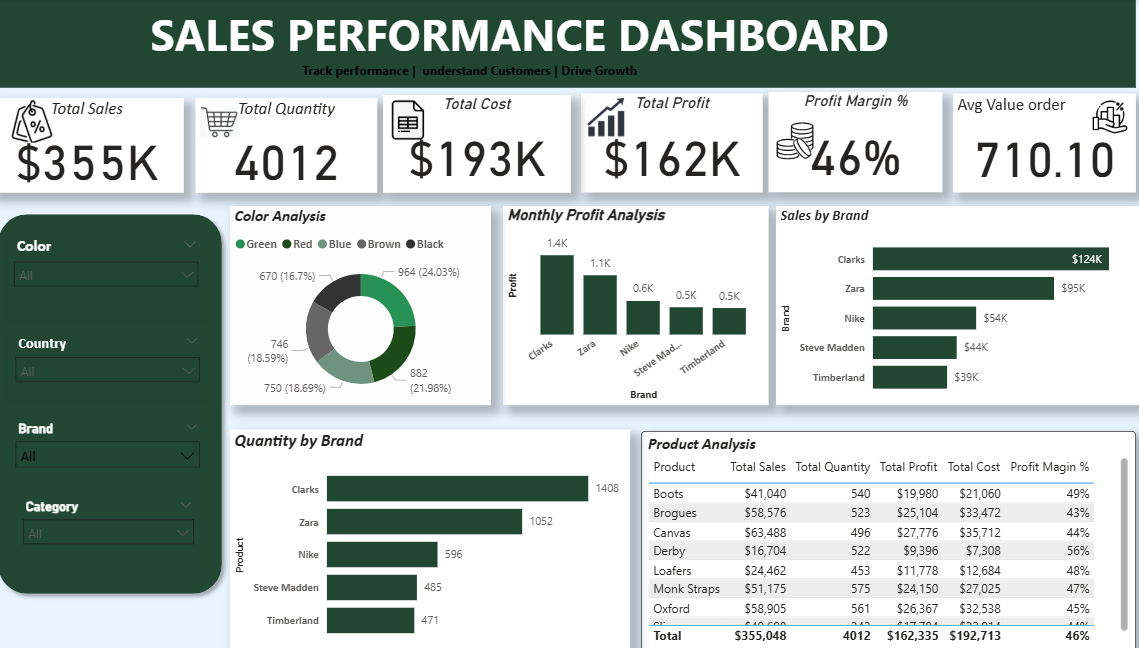

This screenshot's page, from the dashboard's own definition file:
{"tool":"powerbi","page":{"name":"Product Analysis","canvas":[1280,720],"ordinal":1},"visuals":[{"type":"card","title":"Total Sales","fields":{"Values":["Measure Table.Total Revenue"]},"box":[0,109.3,213.7,104.4],"z":0},{"type":"card","title":"           Total Quantity","fields":{"Values":["Measure Table.Total Quantity"]},"box":[226.9,109.3,200.4,104.4],"z":1000},{"type":"card","title":"Total Profit ","fields":{"Values":["Measure Table.Total Profit"]},"box":[652.7,104.4,200.4,109.3],"z":2000},{"type":"card","title":"Total Cost","fields":{"Values":["Measure Table.Total Cost"]},"box":[434,106,207.1,107.7],"z":3000},{"type":"card","title":"Profit Margin %","fields":{"Values":["Measure Table.Profit Magin %"]},"box":[859.7,102.7,192.2,111],"z":4000},{"type":"card","title":"Avg Value order","fields":{"Values":["Measure Table.Avg order value"]},"box":[1063.5,104.4,202.1,109.3],"z":5000},{"type":"tableEx","title":"Product Analysis","fields":{"Values":["Shoes sales.Product","Measure Table.Total Sales","Measure Table.Total Quantity","Measure Table.Total Profit","Measure Table.Total Cost","Measure Table.Profit Magin %"]},"box":[718.9,477.1,546.6,243.5],"z":6000},{"type":"barChart","title":"Quantity by Brand","fields":{"Category":["Shoes sales.Brand"],"Y":["Measure Table.Total Quantity"]},"box":[265,475.4,442.3,245.2],"z":7000},{"type":"columnChart","title":"Monthly Profit Analysis","fields":{"Category":["Shoes sales.Brand"],"Y":["Sum(Shoes sales.Quantity)"]},"box":[566.5,228.6,293.2,220.3],"z":8000},{"type":"barChart","title":"Sales by Brand","fields":{"Category":["Shoes sales.Brand"],"Y":["Measure Table.Total Revenue"]},"box":[868,228.6,412.5,220.3],"z":9000},{"type":"textbox","box":[0,0,1265.6,97.7],"z":10000},{"type":"shape","box":[0,228.6,265,437.3],"z":11000},{"type":"slicer","fields":{"Values":["Shoes sales.Color"]},"box":[16.6,256.8,223.6,102.7],"z":12000},{"type":"slicer","fields":{"Values":["Shoes sales.Country"]},"box":[18.2,364.4,223.6,84.5],"z":13000},{"type":"slicer","fields":{"Values":["Shoes sales.Brand"]},"box":[18.2,460.5,223.6,76.2],"z":14000},{"type":"slicer","fields":{"Values":["Shoes sales.Category"]},"box":[26.5,546.6,208.7,102.7],"z":15000},{"type":"image","box":[863,130.9,51.4,51.4],"z":16000},{"type":"image","box":[652.7,102.7,54.7,54.7],"z":17000},{"type":"image","box":[226.9,109.3,51.4,53],"z":18000},{"type":"image","box":[434,106,56.3,54.7],"z":19000},{"type":"image","box":[1207.6,102.7,58,54.7],"z":20000},{"type":"image","box":[18.2,106,56.3,58],"z":21000},{"type":"donutChart","title":"Color Analysis","fields":{"Category":["Shoes sales.Color"],"Y":["Measure Table.Total Quantity"]},"box":[265,228.6,288.2,220.3],"z":22000}]}

Visuals, with their boxes in screenshot pixels (x1, y1, x2, y2), scaled from the page's 1280x720 canvas onto the 1139x648 screenshot:
"Total Sales" card: box(0, 98, 190, 192)
"           Total Quantity" card: box(202, 98, 380, 192)
"Total Profit " card: box(581, 94, 759, 192)
"Total Cost" card: box(386, 95, 570, 192)
"Profit Margin %" card: box(765, 92, 936, 192)
"Avg Value order" card: box(946, 94, 1126, 192)
"Product Analysis" tableEx: box(640, 429, 1126, 647)
"Quantity by Brand" barChart: box(236, 428, 629, 647)
"Monthly Profit Analysis" columnChart: box(504, 206, 765, 404)
"Sales by Brand" barChart: box(772, 206, 1138, 404)
textbox: box(0, 0, 1126, 88)
shape: box(0, 206, 236, 599)
slicer - Shoes sales.Color: box(15, 231, 214, 324)
slicer - Shoes sales.Country: box(16, 328, 215, 404)
slicer - Shoes sales.Brand: box(16, 414, 215, 483)
slicer - Shoes sales.Category: box(24, 492, 209, 584)
image: box(768, 118, 814, 164)
image: box(581, 92, 629, 142)
image: box(202, 98, 248, 146)
image: box(386, 95, 436, 145)
image: box(1075, 92, 1126, 142)
image: box(16, 95, 66, 148)
"Color Analysis" donutChart: box(236, 206, 492, 404)
